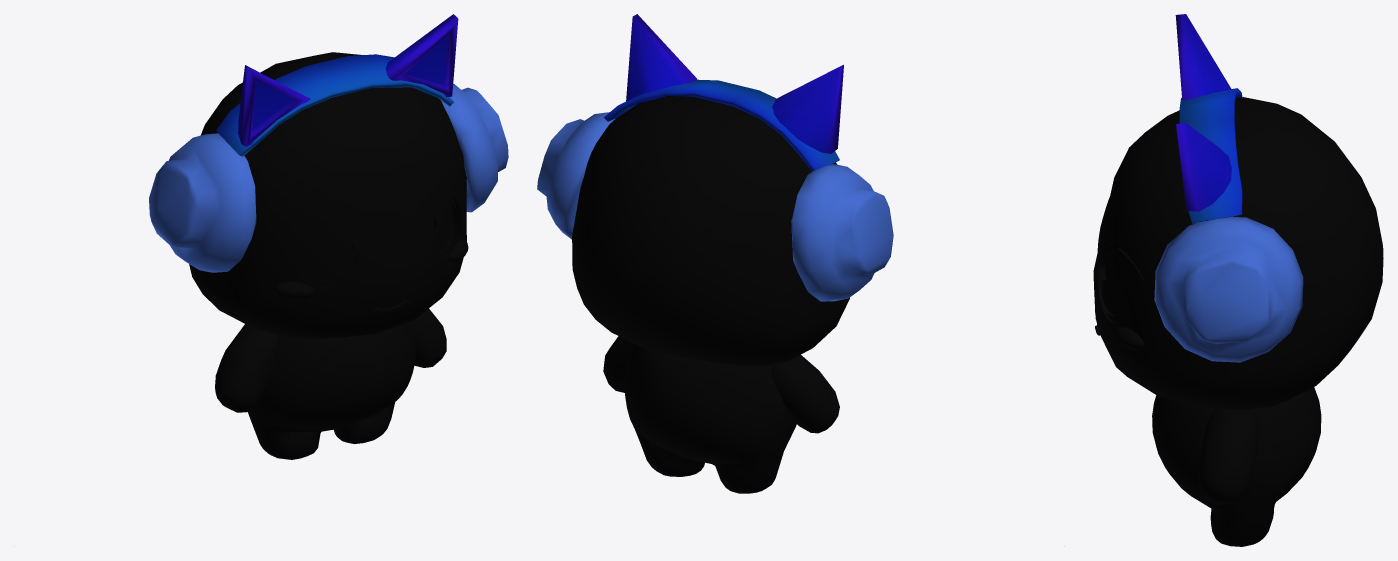
Rendered from sungoo_1.fbx.
The picture shows the model from 3 angles, left to right: view 1: azimuth 30°, elevation 25°; view 2: azimuth 150°, elevation 25°; view 3: azimuth 270°, elevation 25°; orthographic projection. The views are drawn at different scales.
Parts seen in each view (by area): view 1: sungoo_01; view 2: sungoo_01; view 3: sungoo_01.
Part boxes in pixels (left/top/right/bottom): sungoo_01: left=149, top=14, right=508, bottom=459; sungoo_01: left=537, top=14, right=893, bottom=493; sungoo_01: left=1093, top=14, right=1383, bottom=546.
Bounding box in the file's own units: 0.2774 × 0.2271 × 0.1304.
